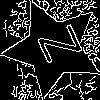Z: (28, 23, 83, 70)
